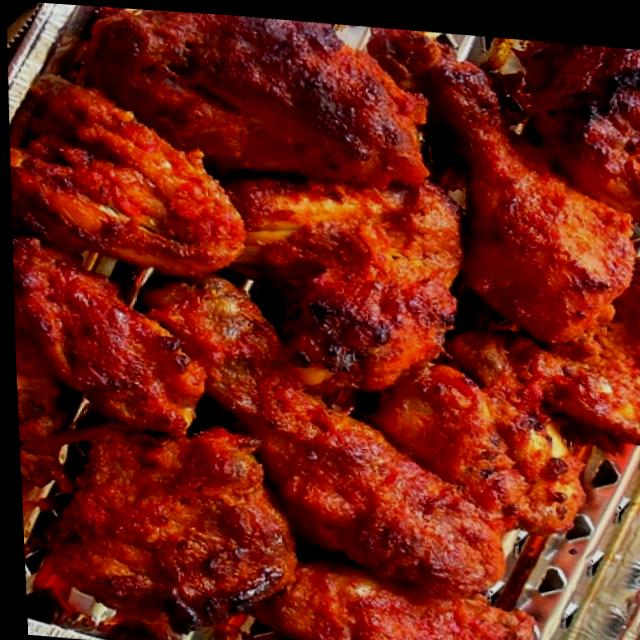鸡肉料理 含炸鸡: (8, 6, 640, 640)
